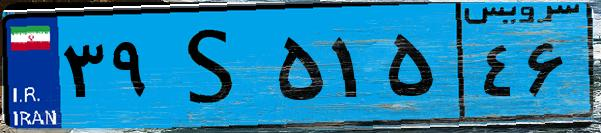1: (330, 28, 385, 110)
3: (57, 26, 110, 100)
4: (475, 38, 525, 113)
5: (270, 28, 330, 110), (385, 28, 445, 110)
6: (525, 38, 570, 115)
9: (110, 28, 158, 98)
S: (158, 12, 270, 120)
